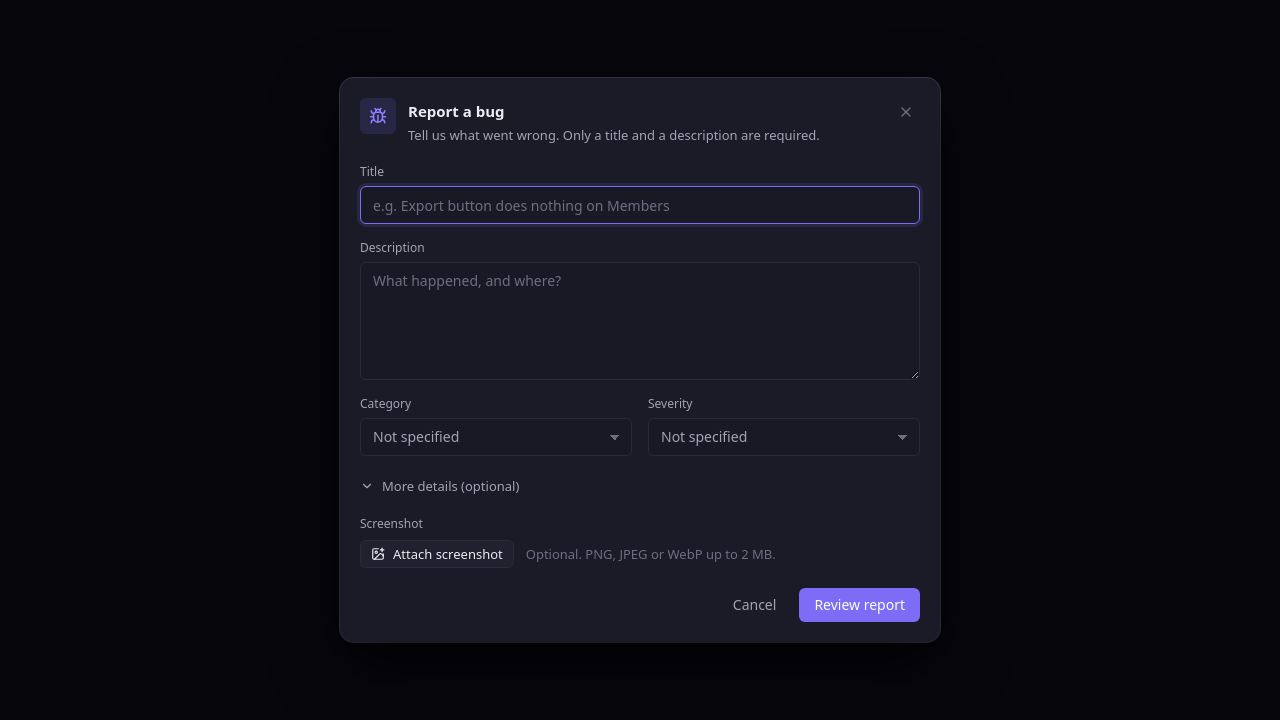
Test case: Report a bug › requires only a title and a description
Click the button "Review report" at {"x": 860, "y": 605}, box [799,588,920,622]
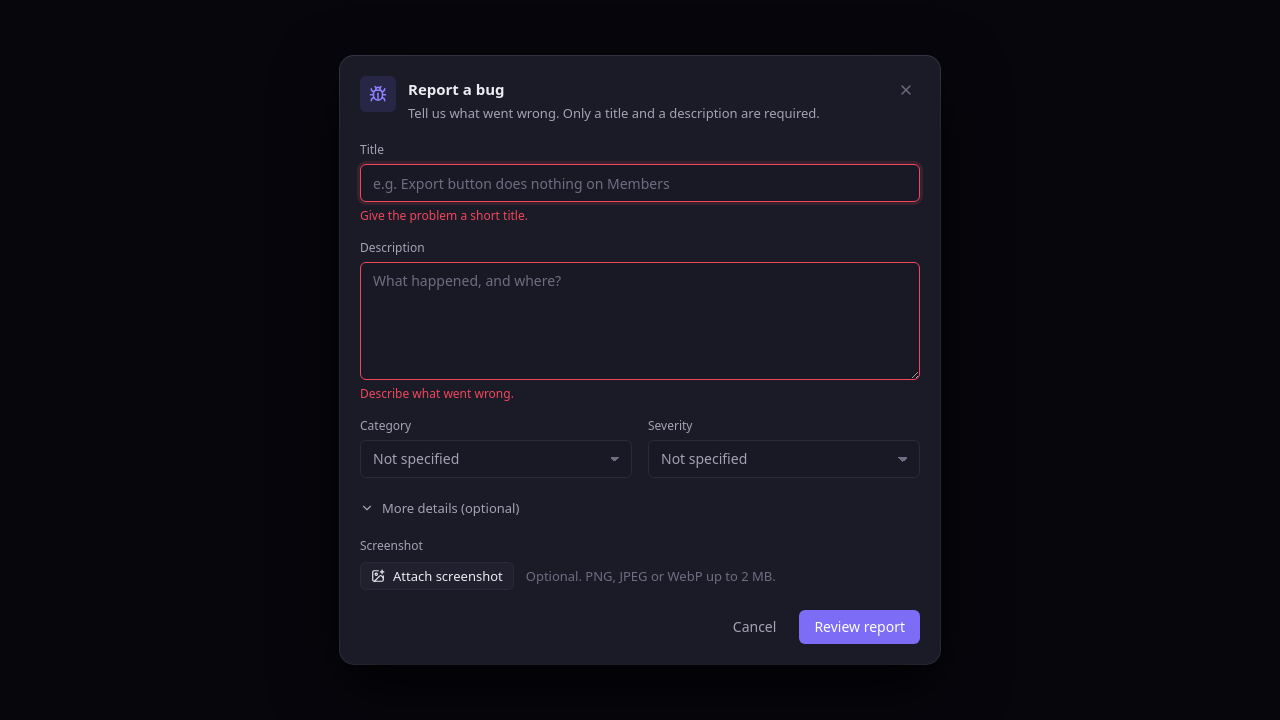
Expected: the dialog "Report a bug" is shown, [340,56,940,664]
Expected: the text "Give the problem a short title." is shown, [360,207,528,224]
Expected: the text "Describe what went wrong." is shown, [360,385,514,402]
